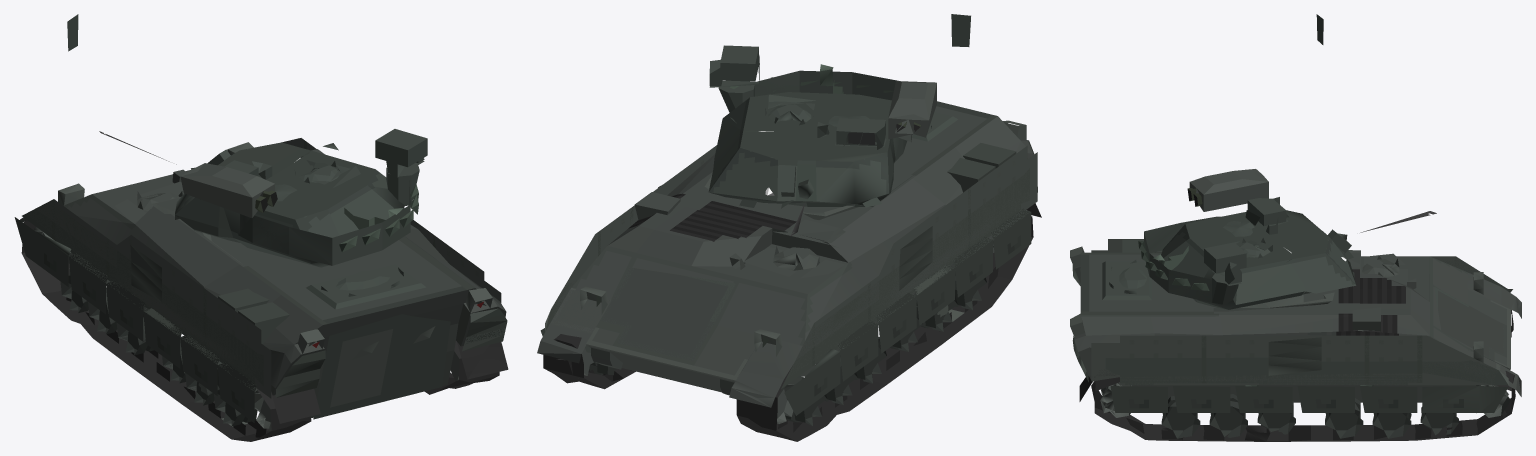
File: SENTINELCREAESCUDODONDELASSEMILLASENEMIGNOCRECEN.glb
The picture shows the model from 3 angles, left to right: view 1: azimuth 30°, elevation 25°; view 2: azimuth 150°, elevation 25°; view 3: azimuth 270°, elevation 25°; orthographic projection. The views are drawn at different scales.
Parts seen in each view (by area): view 1: cuboid_48, cuboid_222, cuboid_88, cuboid_187, cylinder_24, cuboid_77, cuboid_188, cuboid_149, cuboid_195, cuboid_225, cuboid_227, cuboid_228 (+20 smaller); view 2: cuboid_48, cuboid_88, cuboid_222, cuboid_49, cylinder_24, cuboid_77, cuboid_221, cuboid_149, cuboid_225, cylinder_0, cuboid_226, cuboid_230 (+17 smaller); view 3: cuboid_48, cuboid_221, cuboid_88, cylinder_0, cuboid_49, cuboid_149, cuboid_224, cuboid_77, cuboid_237, cuboid_233, cuboid_223, cuboid_232 (+18 smaller).
Boxes of the visible parts, x1,y1,x2,y2 form: cuboid_48: (20,170,508,423); cuboid_222: (22,199,271,398); cuboid_88: (175,142,404,267); cuboid_187: (313,314,450,419); cylinder_24: (21,220,311,441); cuboid_77: (238,180,410,265); cuboid_188: (330,329,392,407); cuboid_149: (180,163,274,217); cuboid_195: (306,264,425,309); cuboid_225: (14,217,71,286); cuboid_227: (106,280,145,341); cuboid_228: (143,307,182,368); cuboid_48: (537,101,1041,407); cuboid_88: (708,92,895,206); cuboid_222: (781,145,1037,388); cuboid_49: (600,267,735,361); cylinder_24: (736,216,1033,441); cuboid_77: (755,70,906,162); cuboid_221: (545,145,716,331); cuboid_149: (888,81,936,139); cuboid_225: (784,348,840,415); cylinder_0: (543,334,635,389); cuboid_226: (837,320,878,381); cuboid_230: (990,208,1031,269); cuboid_48: (1074,252,1521,402); cuboid_221: (1091,335,1508,385); cuboid_88: (1159,210,1356,309); cylinder_0: (1091,371,1515,441); cuboid_49: (1434,286,1503,357); cuboid_149: (1189,169,1268,211); cuboid_224: (1422,386,1508,412); cuboid_77: (1144,216,1220,303); cuboid_237: (1268,337,1321,375); cuboid_233: (1173,386,1230,412); cuboid_223: (1360,386,1417,412); cuboid_232: (1235,386,1292,412).
Bounding box in the file's own units: 3.85 × 4.46 × 5.89.
12 materials, 11 textured.
